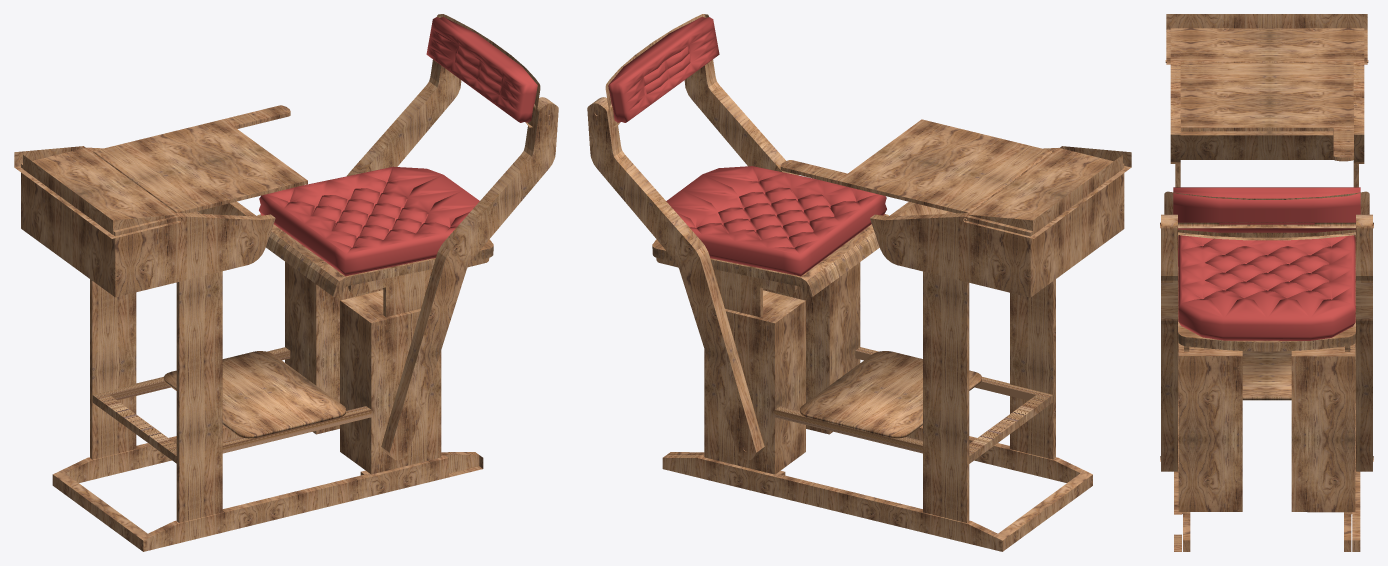
Rendered from room_desk.glb.
3 views of the same model, side by side, from view 1: azimuth 30°, elevation 25°; view 2: azimuth 150°, elevation 25°; view 3: azimuth 270°, elevation 25° (orthographic). The views are drawn at different scales.
Visible parts, largest first — view 1: room_desk; view 2: room_desk; view 3: room_desk.
Boxes of the visible parts, bbox=[...] form: room_desk: bbox=[14, 14, 558, 551]; room_desk: bbox=[587, 14, 1131, 551]; room_desk: bbox=[1160, 14, 1373, 551].
Bounding box in the file's own units: 243 × 196 × 98.31.
Materials: 6 (5 with a texture image).
